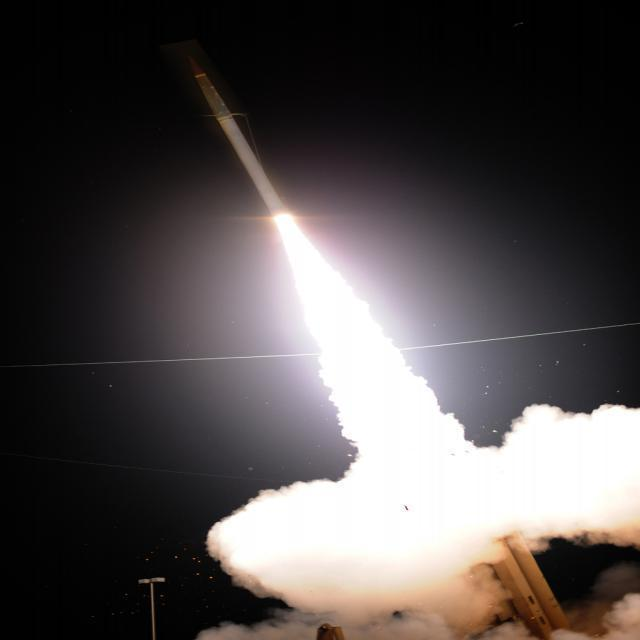missile: (173, 33, 301, 236)
